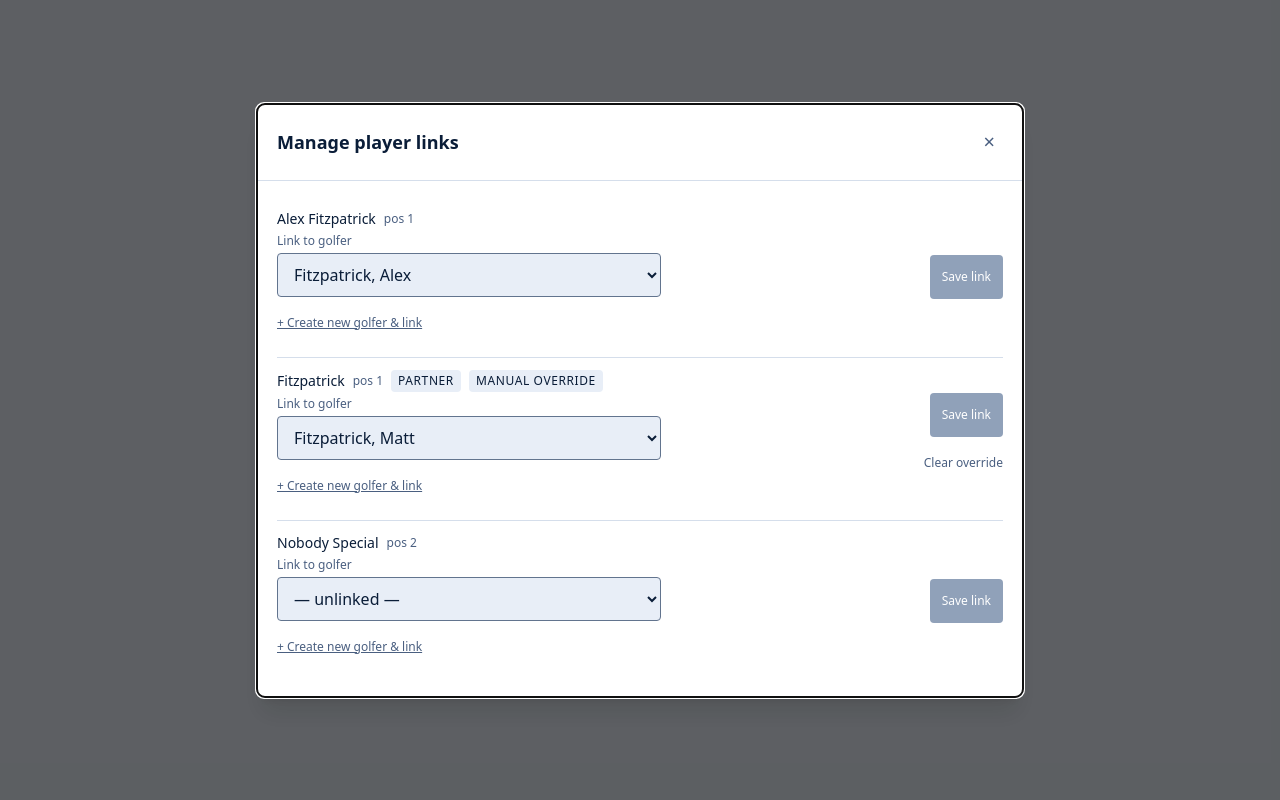
Test case: PlayerLinksPanel › shows a link the refetch brings in on a row the admin has not touched
Select "Scheffler, Scottie" in the dropdown labelled "Link to golfer" below "Nobody Special": point(469, 598) [277, 576, 661, 620]
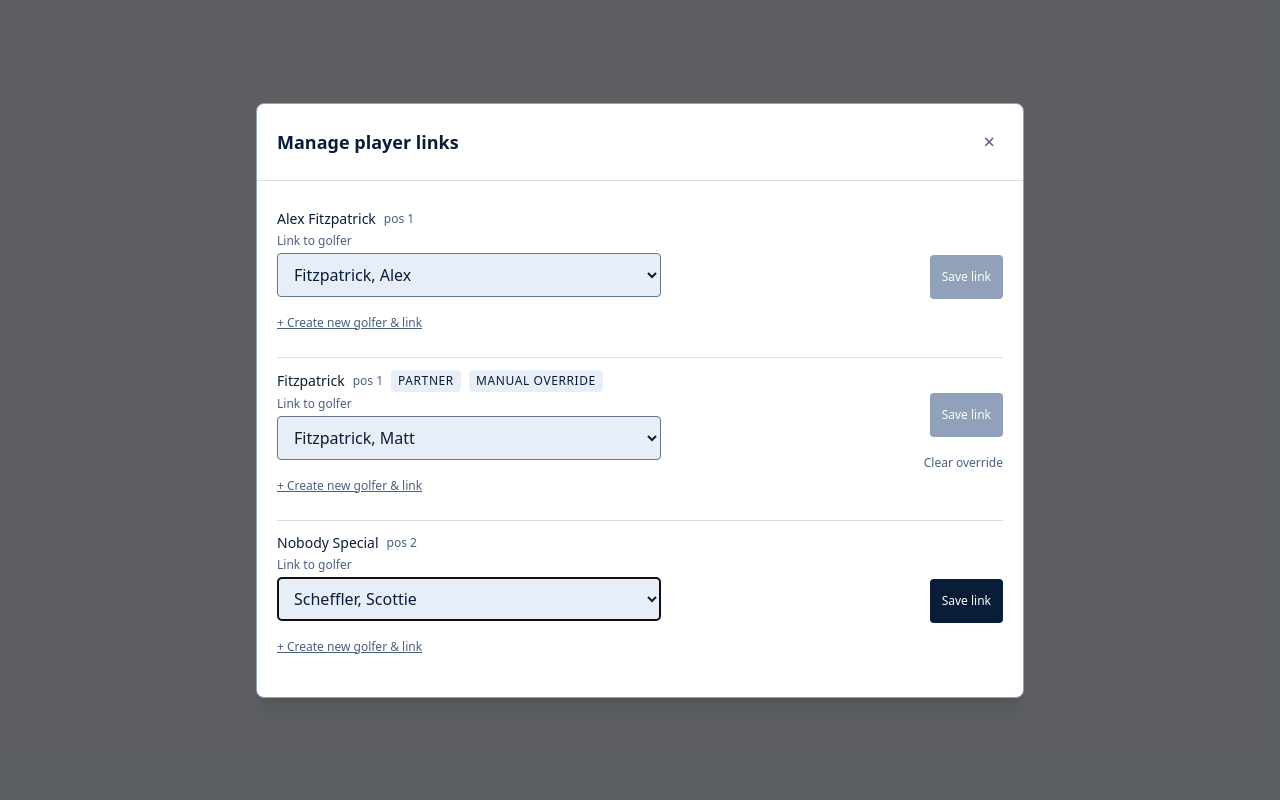
Click the 3rd button "Save link": point(966, 600) [930, 578, 1003, 622]
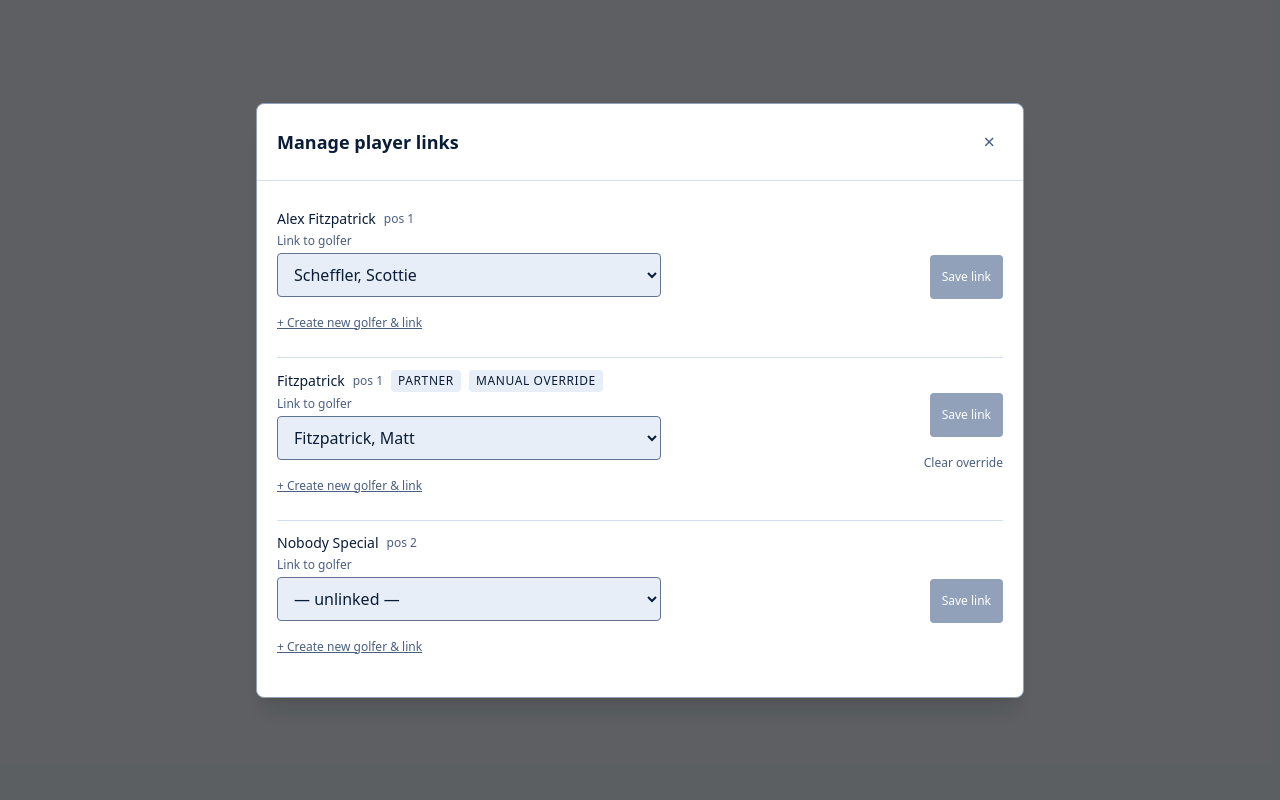
Check: the dropdown labelled "Link to golfer" below "Alex Fitzpatrick" shows "Scheffler, Scottie", box [277, 252, 661, 296]
